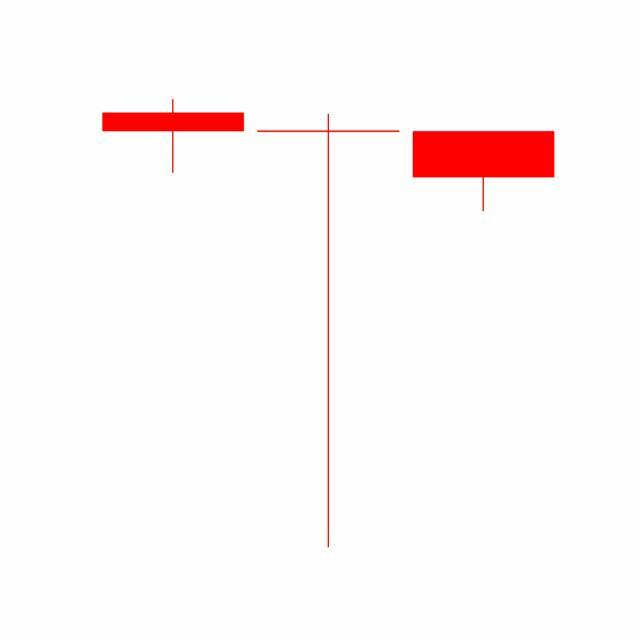Dragonfly Doji: (250, 111, 407, 554)
